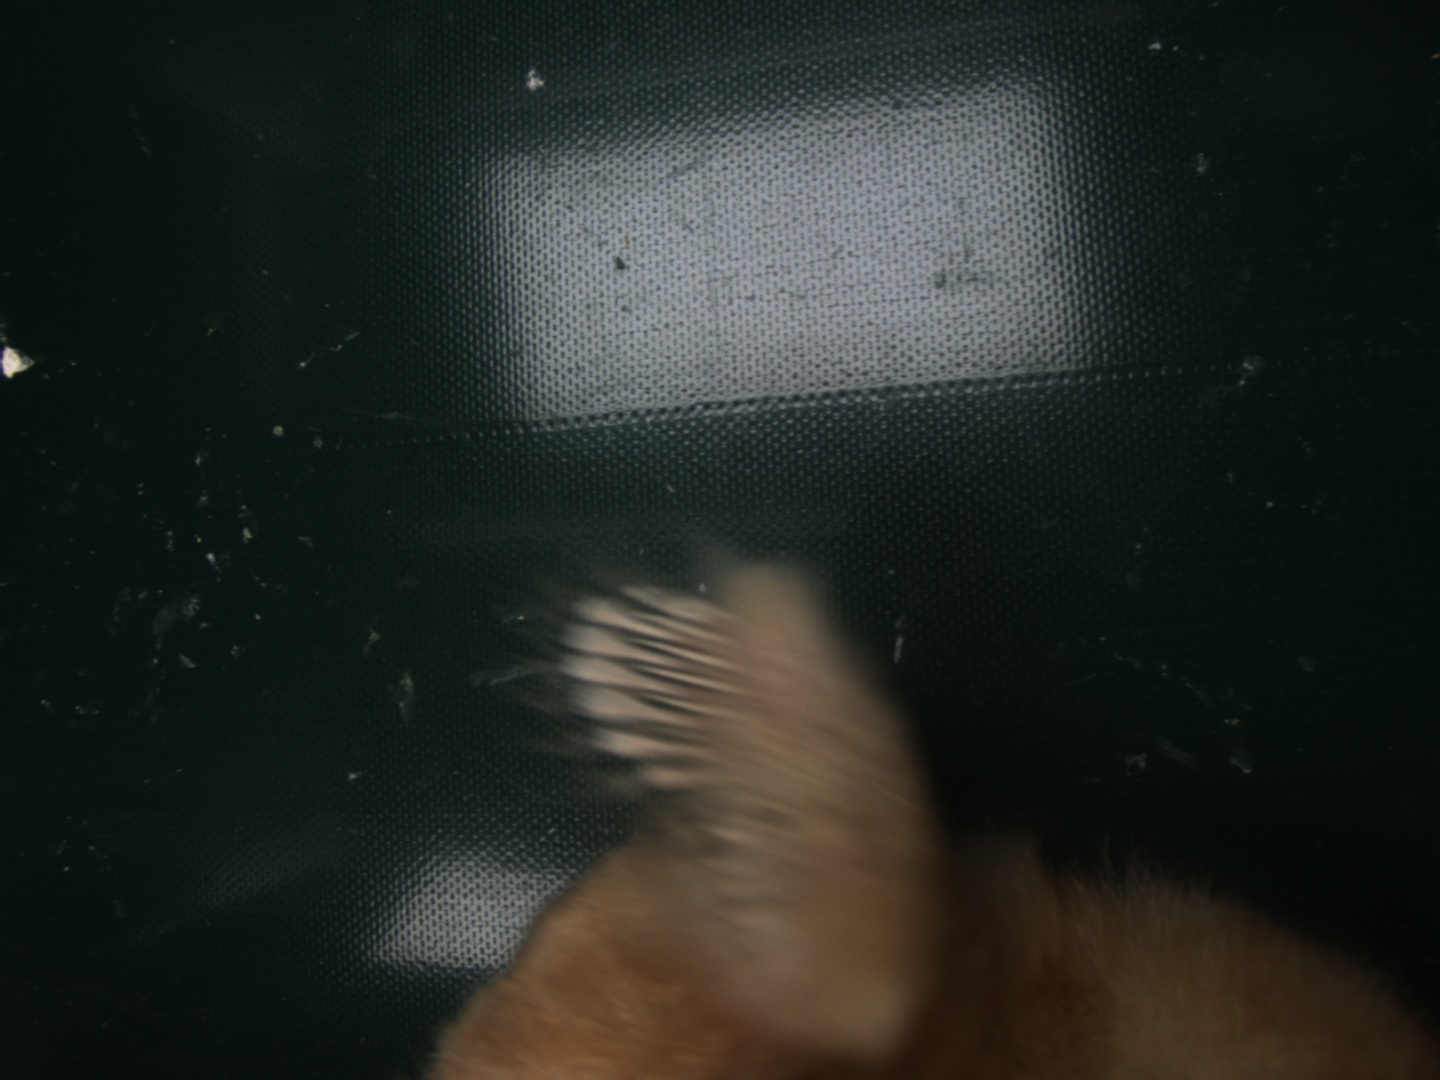female: (558, 580, 765, 798)
